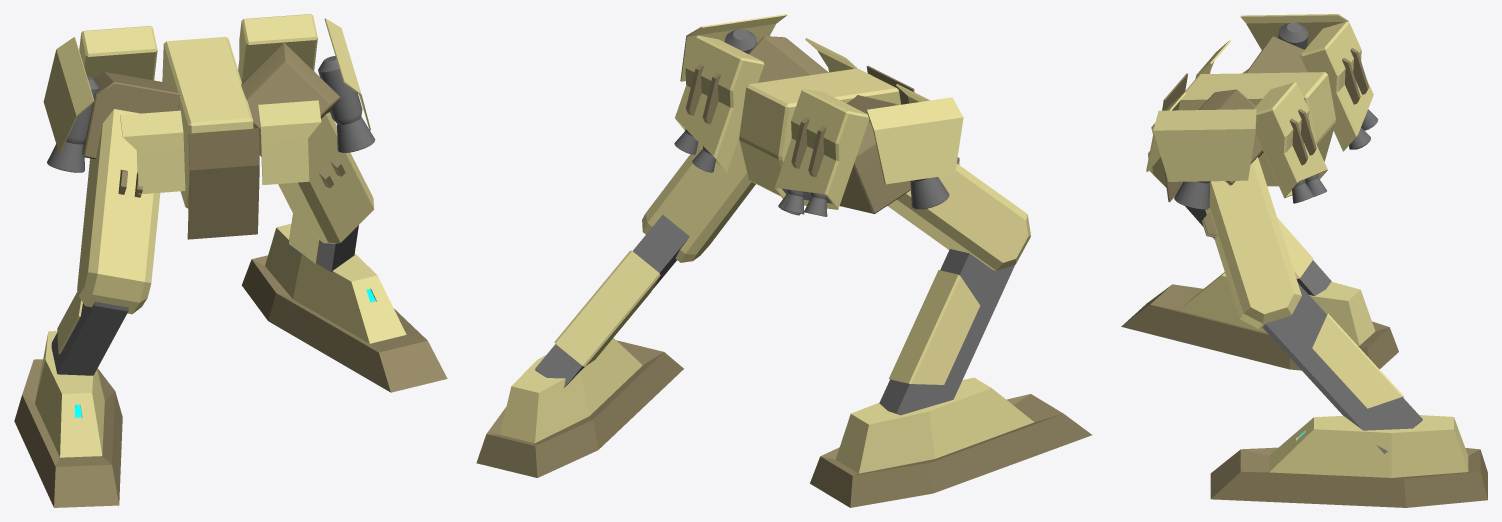
Rendered from LegsRight.fbx.
3 renders of one model, left to right at view 1: azimuth 30°, elevation 25°; view 2: azimuth 150°, elevation 25°; view 3: azimuth 270°, elevation 25°, orthographic. The views are drawn at different scales.
Parts seen in each view (by area): view 1: pasted__pCube47, pasted__pCube48, pasted__pCube37, pasted__pasted__pCube36, pasted__pasted__pCube32, pasted__pCube31, pasted__pPlane3, pasted__pPlane4, pasted__pasted__pCube39, pasted__pasted__pCube40, pasted__pCube39, pasted__pCube43 (+7 smaller); view 2: pasted__pCube48, pasted__pCube47, pasted__pCube33 (×2), pasted__pCube37, pasted__pasted__pCube32, pasted__pPlane1, pasted__pCube31, pasted__pCube39, pasted__pCube43, pasted__pCube38, pasted__pasted__pCube40, pasted__pCube32 (+5 smaller); view 3: pasted__pCube47, pasted__pCube48, pasted__pCube31, pasted__pPlane2, pasted__pCube32, pasted__pasted__pCube32, pasted__pCube43, pasted__pCube33 (×2), pasted__pCube39, pasted__pPlane1, pasted__pasted__pCube40, pasted__pasted__pCube39 (+6 smaller).
Boxes of the visible parts, box(x1,y1,x2,y2) form: pasted__pCube47: box(241, 224, 447, 392); pasted__pCube48: box(14, 331, 122, 507); pasted__pCube37: box(77, 109, 160, 314); pasted__pasted__pCube36: box(187, 128, 259, 239); pasted__pasted__pCube32: box(162, 37, 253, 208); pasted__pCube31: box(278, 112, 374, 243); pasted__pPlane3: box(258, 100, 321, 184); pasted__pPlane4: box(120, 110, 185, 194); pasted__pasted__pCube39: box(241, 43, 340, 156); pasted__pasted__pCube40: box(82, 72, 180, 159); pasted__pCube39: box(79, 26, 157, 80); pasted__pCube43: box(238, 14, 317, 83); pasted__pCube48: box(810, 377, 1092, 507); pasted__pCube47: box(476, 338, 683, 477); pasted__pCube33 (×2): box(554, 250, 980, 384); pasted__pCube37: box(887, 163, 1030, 270); pasted__pasted__pCube32: box(739, 68, 900, 196); pasted__pPlane1: box(866, 97, 963, 184); pasted__pCube31: box(642, 137, 755, 262); pasted__pCube39: box(774, 88, 869, 209); pasted__pCube43: box(675, 35, 764, 172); pasted__pCube38: box(879, 249, 1014, 415); pasted__pasted__pCube40: box(839, 95, 910, 213); pasted__pCube32: box(535, 215, 689, 387); pasted__pCube47: box(1210, 415, 1487, 507); pasted__pCube48: box(1121, 272, 1398, 370); pasted__pCube31: box(1205, 157, 1301, 329); pasted__pPlane2: box(1153, 109, 1256, 181); pasted__pCube32: box(1262, 283, 1422, 453); pasted__pasted__pCube32: box(1177, 72, 1335, 186); pasted__pCube43: box(1254, 82, 1327, 198); pasted__pCube33 (×2): box(1277, 218, 1403, 408); pasted__pCube39: box(1300, 21, 1373, 151); pasted__pPlane1: box(1240, 14, 1348, 49); pasted__pasted__pCube40: box(1246, 36, 1306, 73); pasted__pasted__pCube39: box(1199, 89, 1263, 185).
Size of the model in its own units: 18.5 by 14.54 by 14.01.
